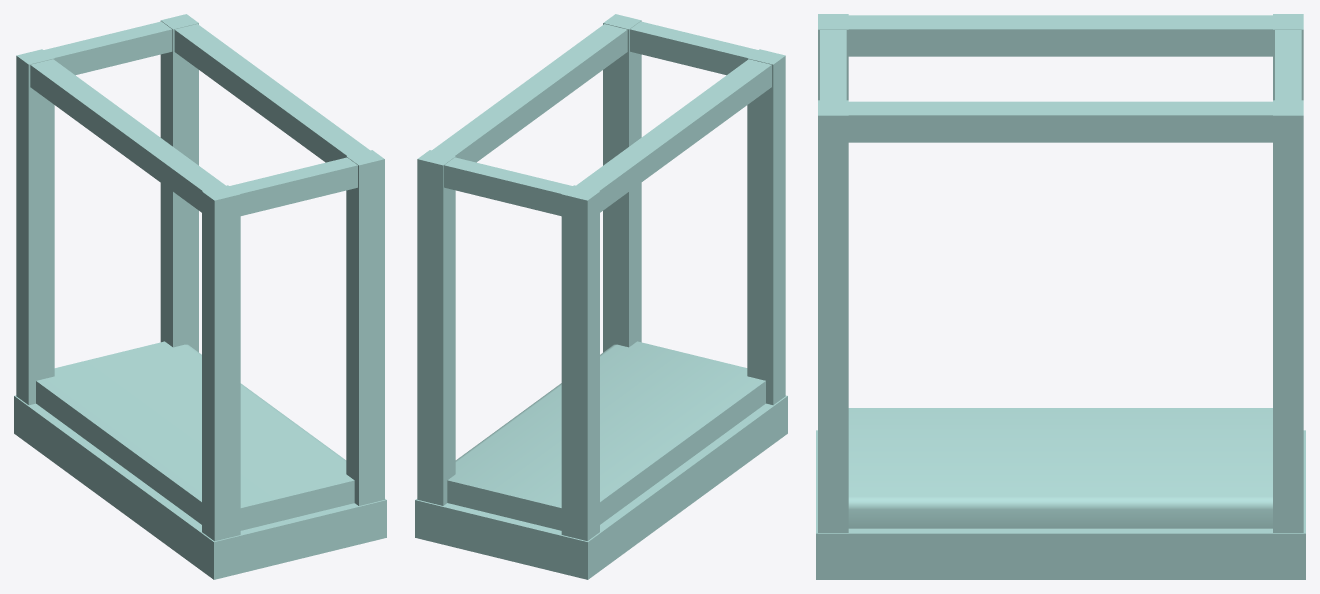
File: DarkWood_Tokonoma.fbx
3 views of the same model, side by side, from view 1: azimuth 30°, elevation 25°; view 2: azimuth 150°, elevation 25°; view 3: azimuth 270°, elevation 25° (orthographic). The views are drawn at different scales.
Visible parts, largest first — view 1: DarkWood_Tokonoma; view 2: DarkWood_Tokonoma; view 3: DarkWood_Tokonoma.
Boxes of the visible parts, x1,y1,x2,y2 form: DarkWood_Tokonoma: (14, 14, 386, 579); DarkWood_Tokonoma: (415, 14, 787, 579); DarkWood_Tokonoma: (816, 14, 1305, 579).
Size of what is drawn, in the model's own units: 120 by 251 by 240.
